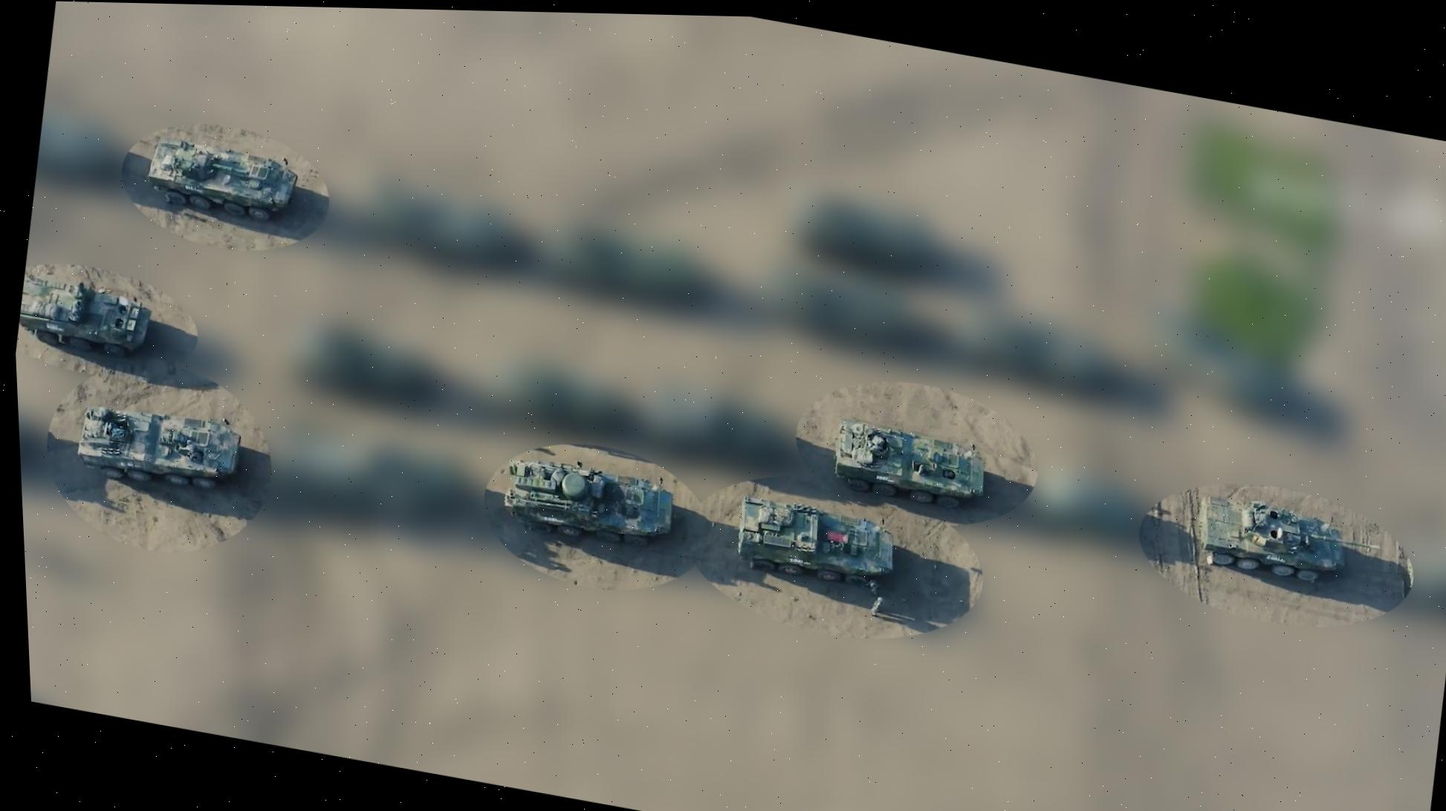armored_car: (61, 380, 260, 513), (491, 443, 688, 555), (713, 489, 906, 594), (136, 128, 307, 236), (819, 417, 997, 518), (12, 263, 165, 370)
tank: (1183, 473, 1399, 603)
